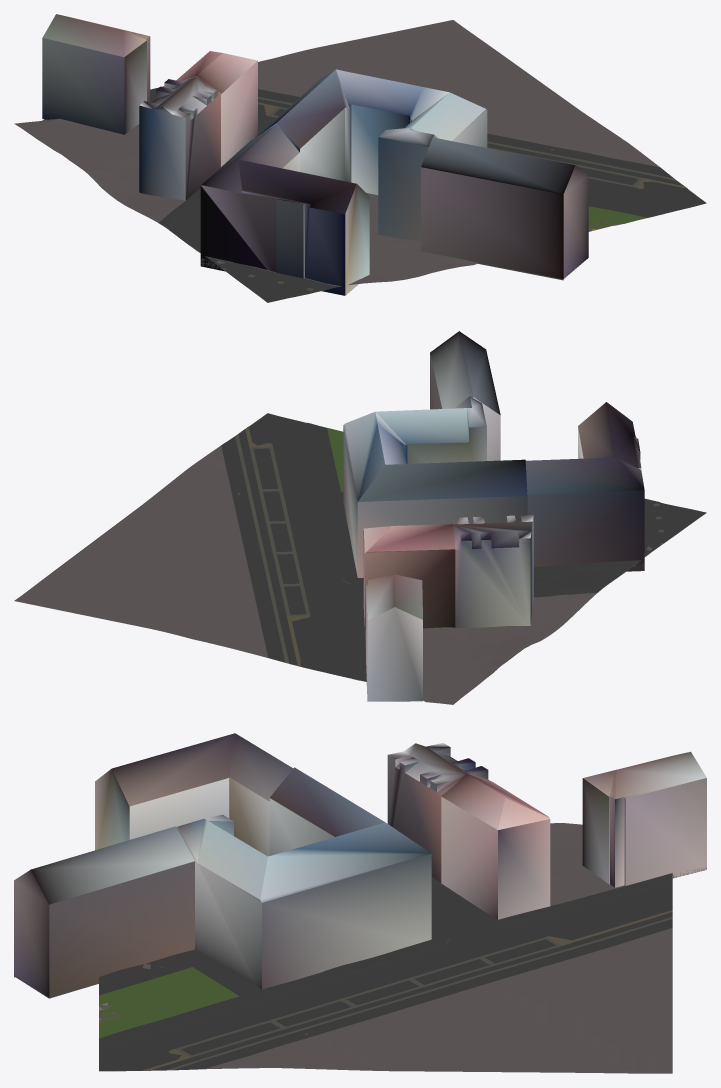
3 renders of one model, top to bottom at view 1: azimuth 30°, elevation 25°; view 2: azimuth 150°, elevation 25°; view 3: azimuth 270°, elevation 25°, orthographic. The views are drawn at different scales.
Parts seen in each view (by area): view 1: c_m14_m16; view 2: c_m14_m16; view 3: c_m14_m16.
Boxes of the visible parts, box(x1,y1,x2,y2) form: c_m14_m16: box(14, 14, 706, 302); c_m14_m16: box(14, 331, 706, 704); c_m14_m16: box(14, 733, 706, 1073).
Size of the model in its own units: 129 by 29.79 by 155.
